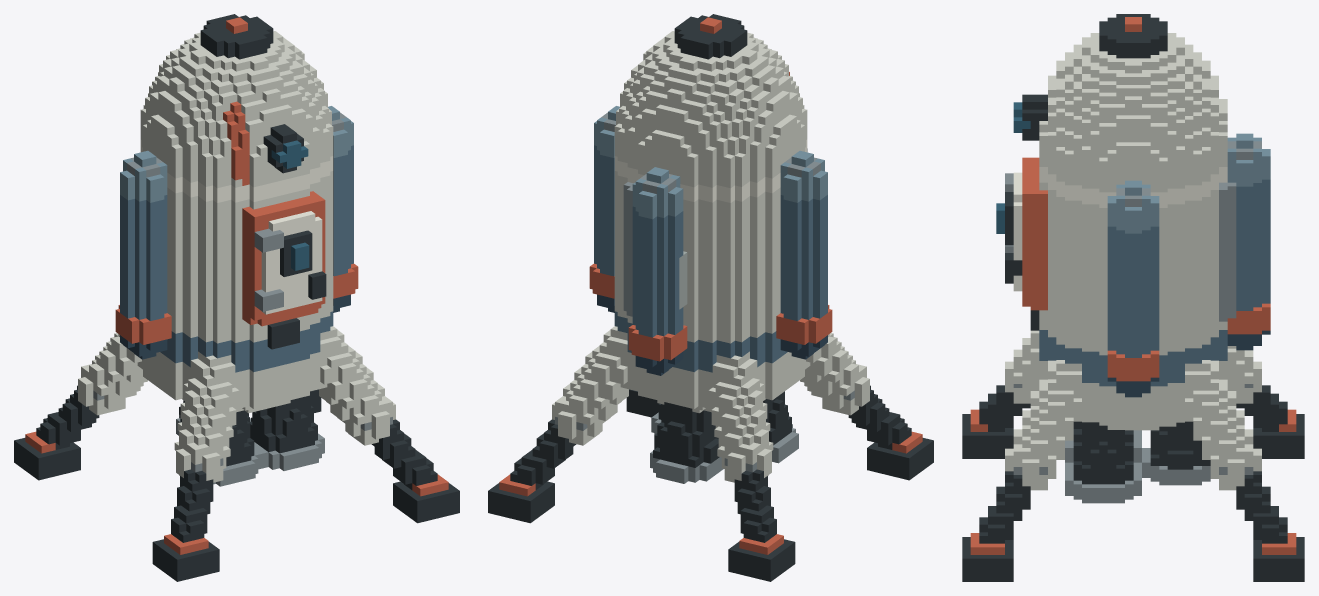
Rendered from transport_rocket.glb.
3 renders of one model, left to right at view 1: azimuth 30°, elevation 25°; view 2: azimuth 150°, elevation 25°; view 3: azimuth 270°, elevation 25°, orthographic. The views are drawn at different scales.
Parts seen in each view (by area): view 1: transport_rocket; view 2: transport_rocket; view 3: transport_rocket.
Part boxes in pixels (x1,y1,x2,y2): transport_rocket: [14, 14, 459, 581]; transport_rocket: [488, 14, 933, 581]; transport_rocket: [962, 14, 1304, 581].
Bounding box in the file's own units: 4.4 × 6.93 × 4.4.
